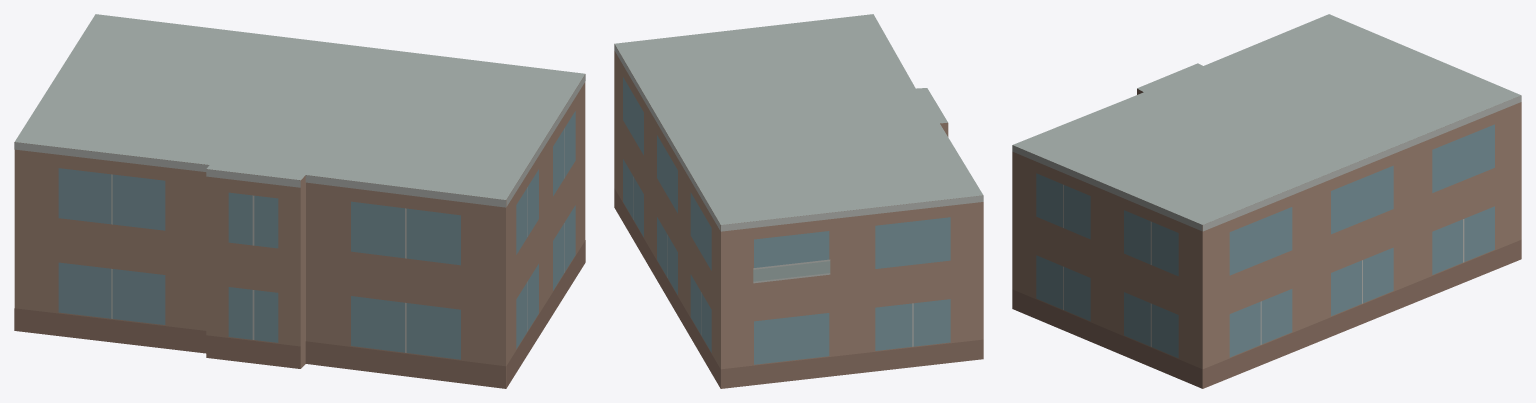
The model's file is survey-upis-32947134.glb.
3 views of the same model, side by side, from view 1: azimuth 30°, elevation 25°; view 2: azimuth 150°, elevation 25°; view 3: azimuth 270°, elevation 25° (orthographic). The views are drawn at different scales.
Visible parts, largest first — view 1: survey-upis-32947134.tmp; view 2: survey-upis-32947134.tmp; view 3: survey-upis-32947134.tmp.
Boxes of the visible parts, bbox=[...] form: survey-upis-32947134.tmp: bbox=[14, 14, 585, 388]; survey-upis-32947134.tmp: bbox=[614, 14, 983, 388]; survey-upis-32947134.tmp: bbox=[1012, 14, 1521, 388].
Size of the model in its own units: 16.85 by 6.1 by 17.18.
